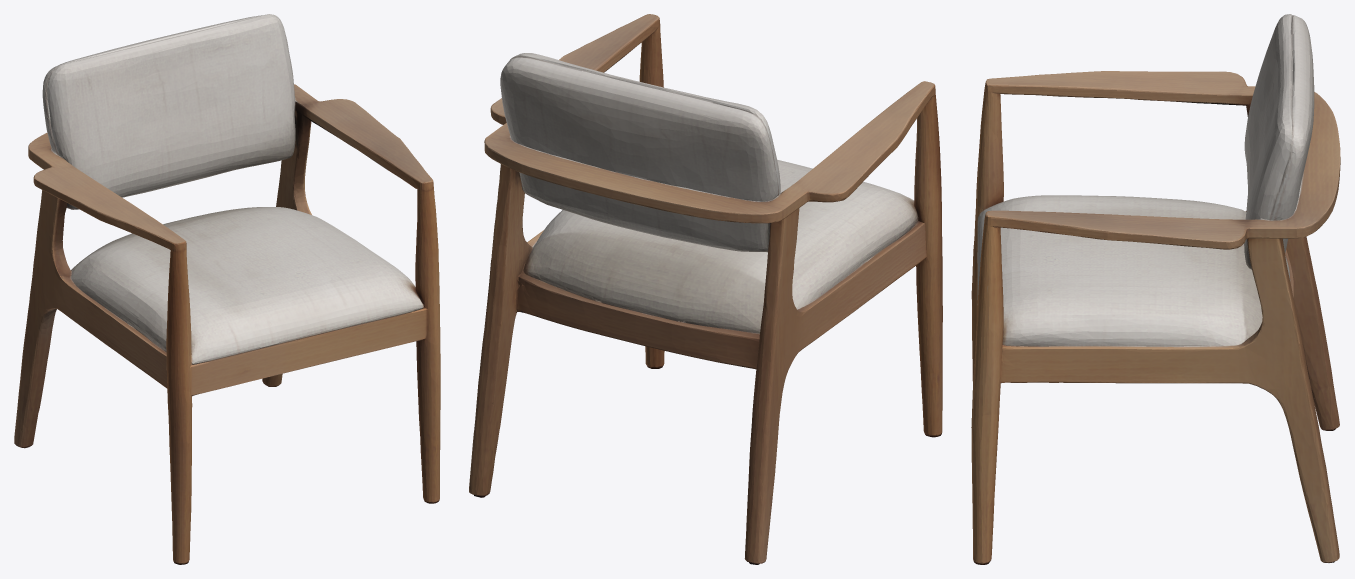
The model's file is SILLA NAIROVI.glb.
3 renders of one model, left to right at view 1: azimuth 30°, elevation 25°; view 2: azimuth 150°, elevation 25°; view 3: azimuth 270°, elevation 25°, orthographic. The views are drawn at different scales.
Parts seen in each view (by area): view 1: world; view 2: world; view 3: world.
Part boxes in pixels (x1,y1,x2,y2): world: [14, 14, 440, 564]; world: [469, 14, 942, 564]; world: [971, 14, 1340, 564].
Size of the model in its own units: 0.8569 by 1 by 0.7846.
1 material, 1 textured.
